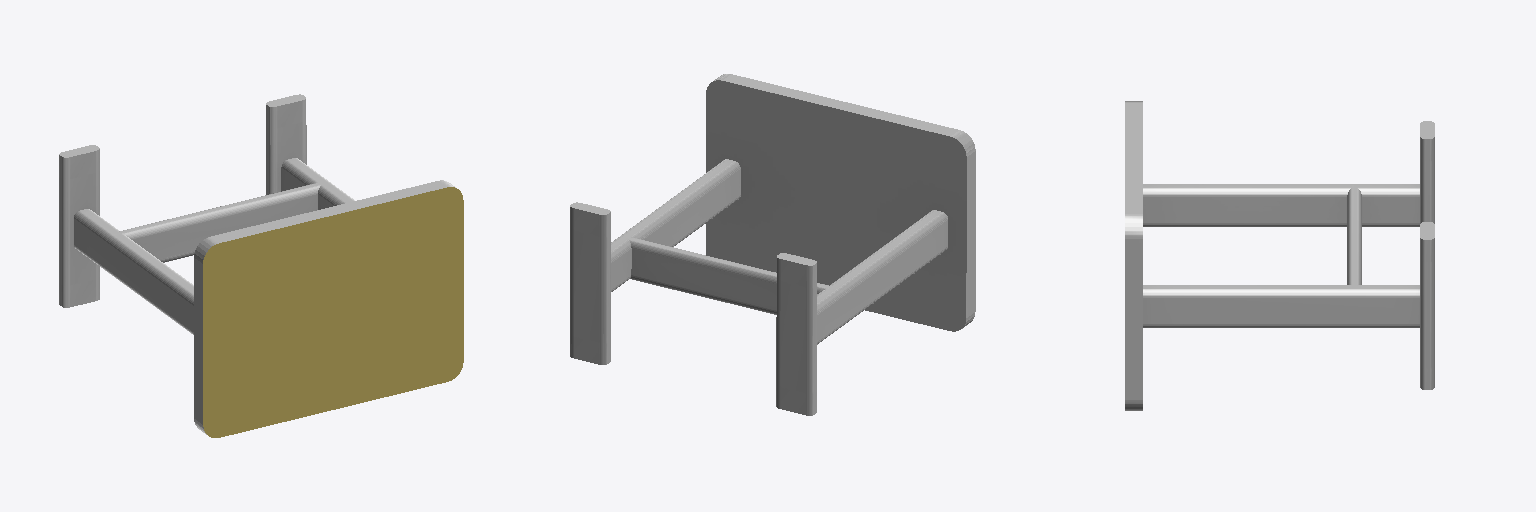
3 views of the same model, side by side, from view 1: azimuth 30°, elevation 25°; view 2: azimuth 150°, elevation 25°; view 3: azimuth 270°, elevation 25° (orthographic).
Bounding box in the file's own units: 0.6823 × 0.4877 × 0.7019.
1 materials, 1 textured.